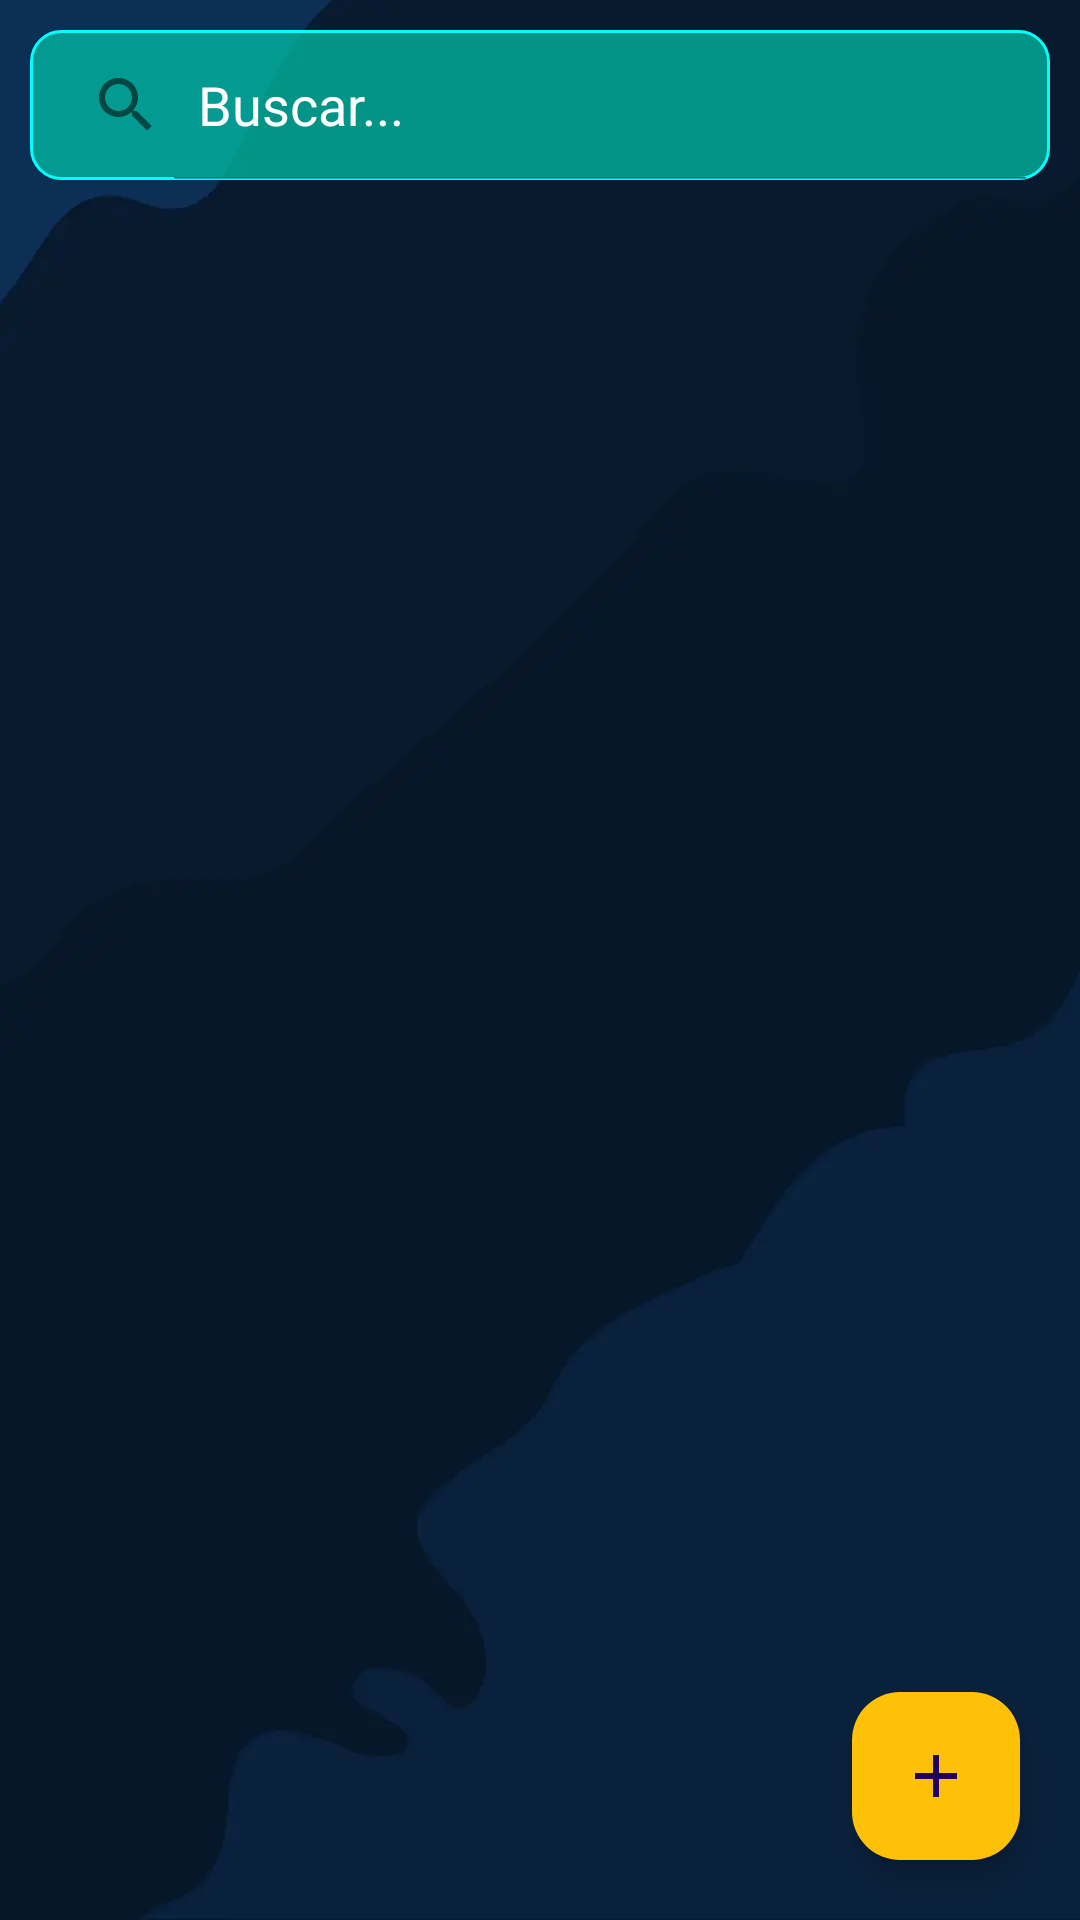

Where icons sit on this 1080x1920 app screen, as (x1, y1, x2, y2):
add student: (852, 1692, 1020, 1860)
